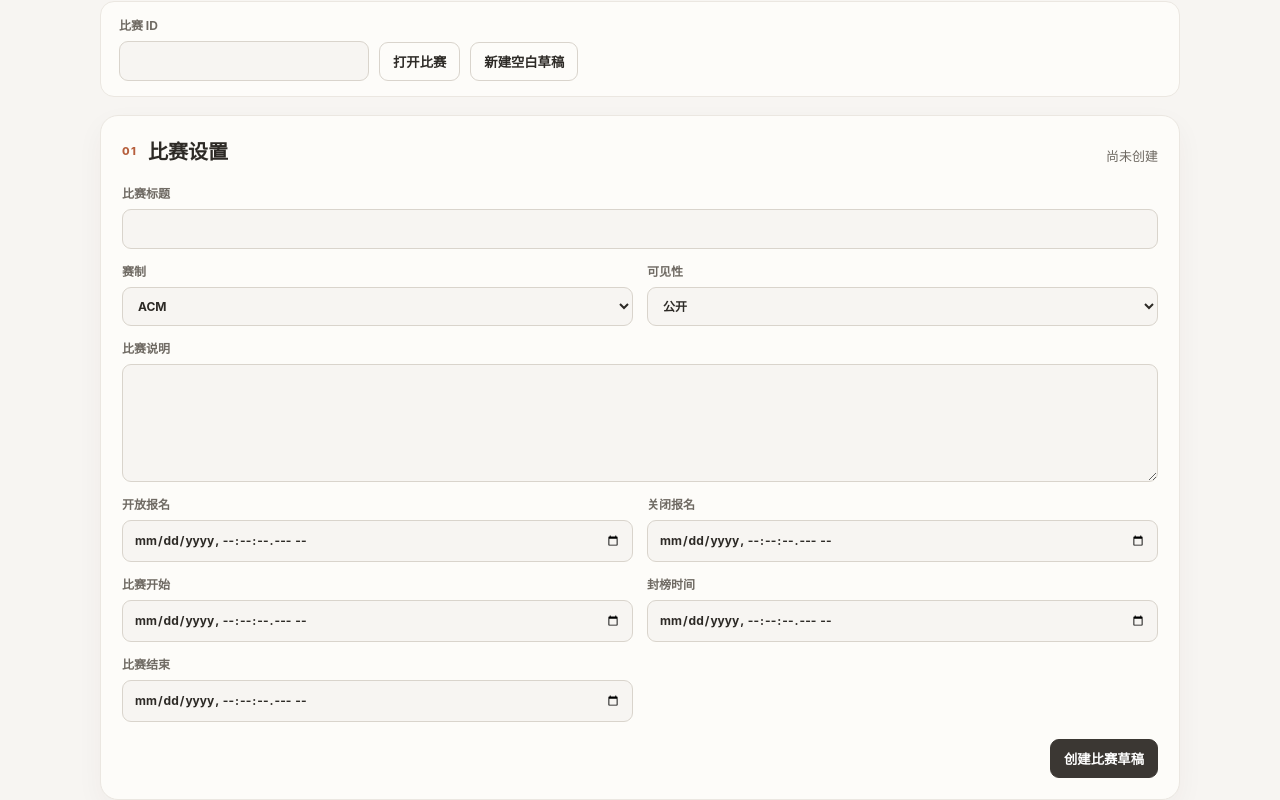
Test: ContestManagement › invalidates discovered versions when the administrator edits the problem id
(page scrolled)
Type "12" into the field labelled "比赛 ID" at (244, 61), box [119,41,369,81]
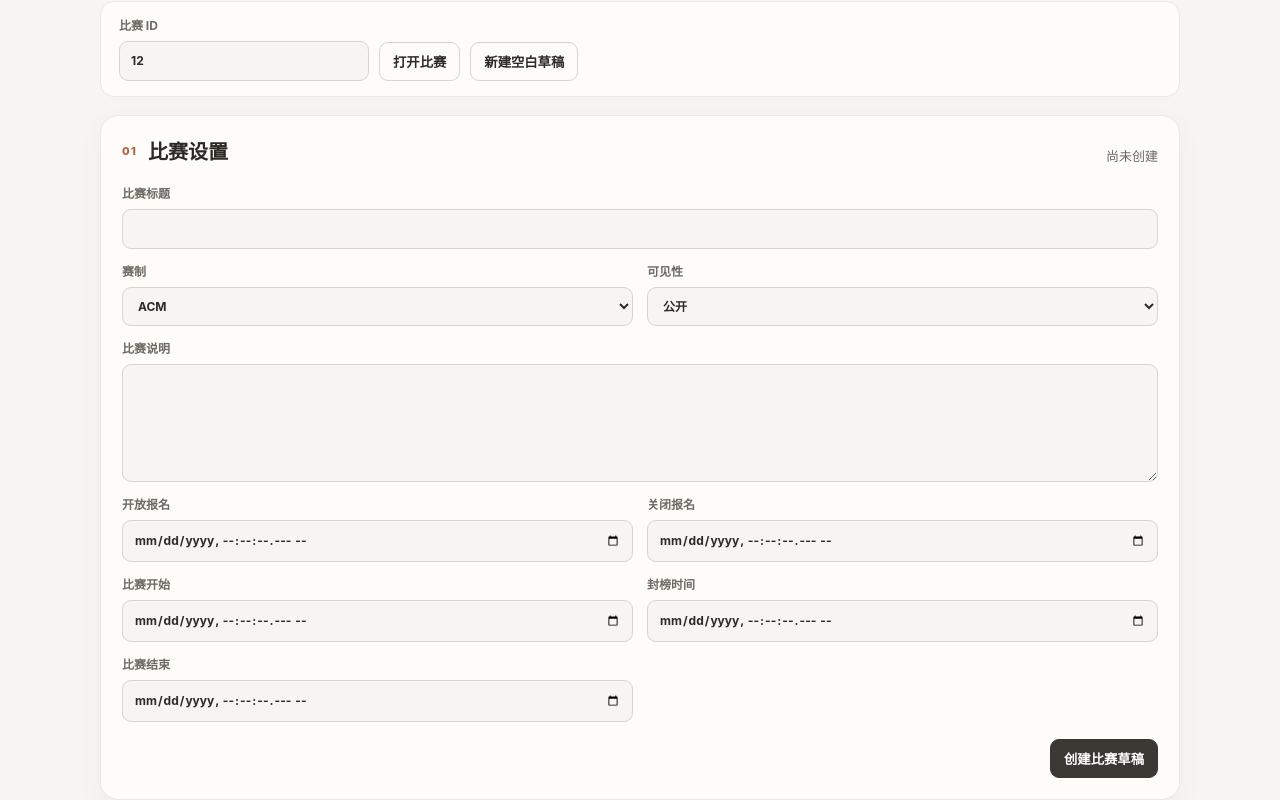
Click the button "打开比赛" at (420, 61), box [379,42,460,81]
(page scrolled)
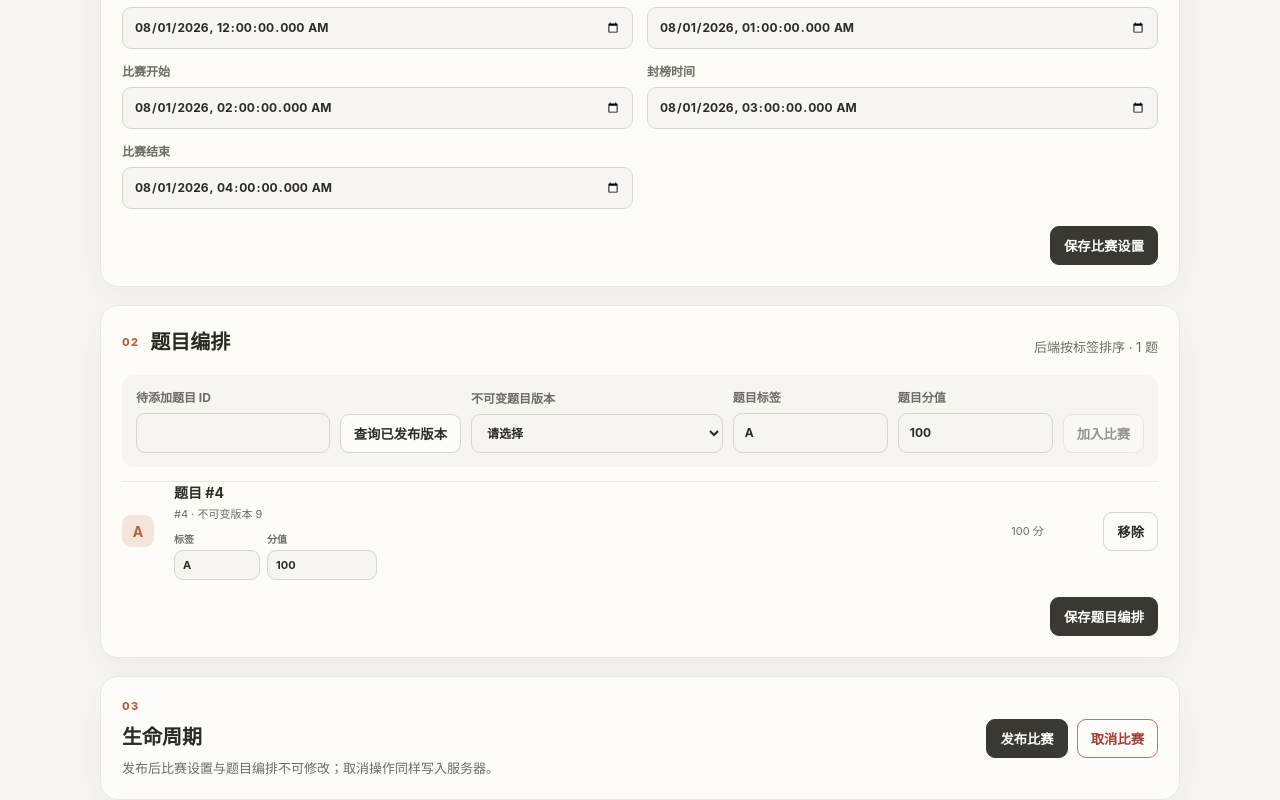
Type "5" into the field labelled "待添加题目 ID" at (233, 433), box [136,413,330,453]
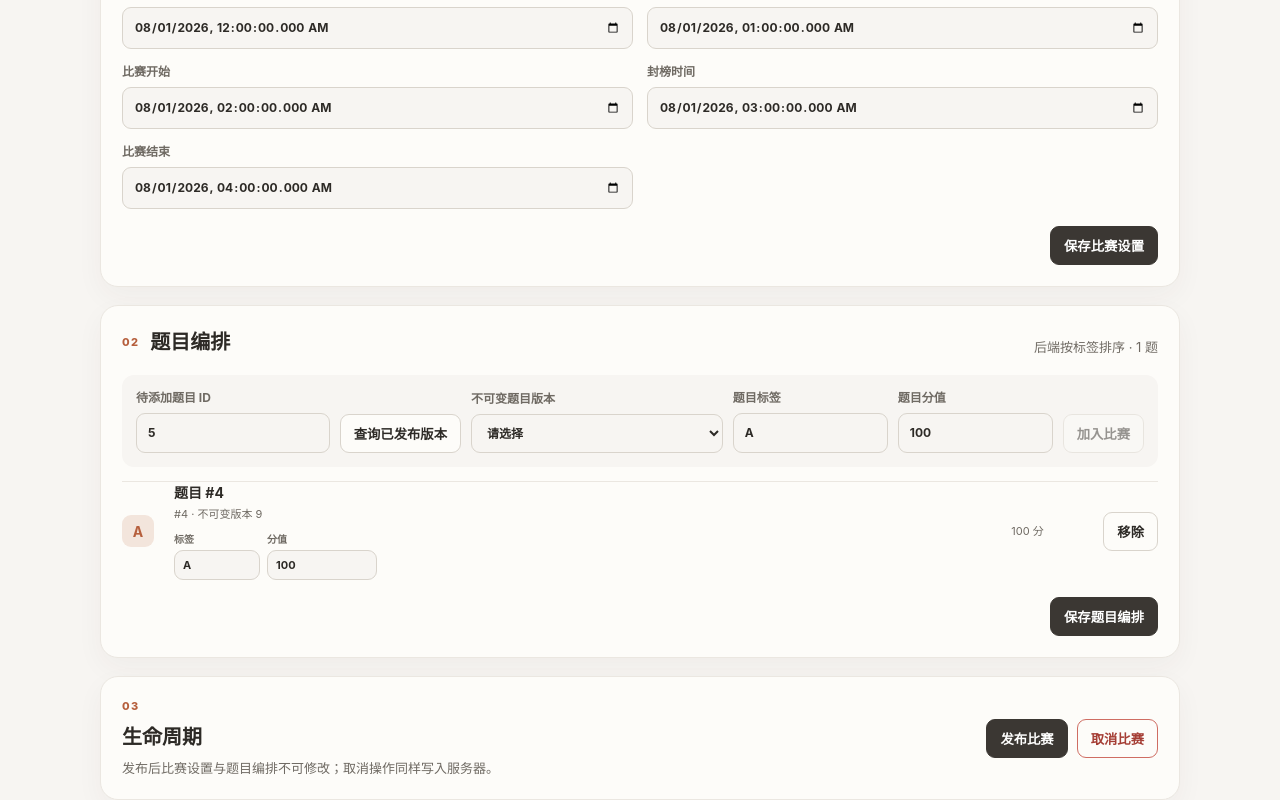
Click the button "查询已发布版本" at (400, 434), box [340,414,461,453]
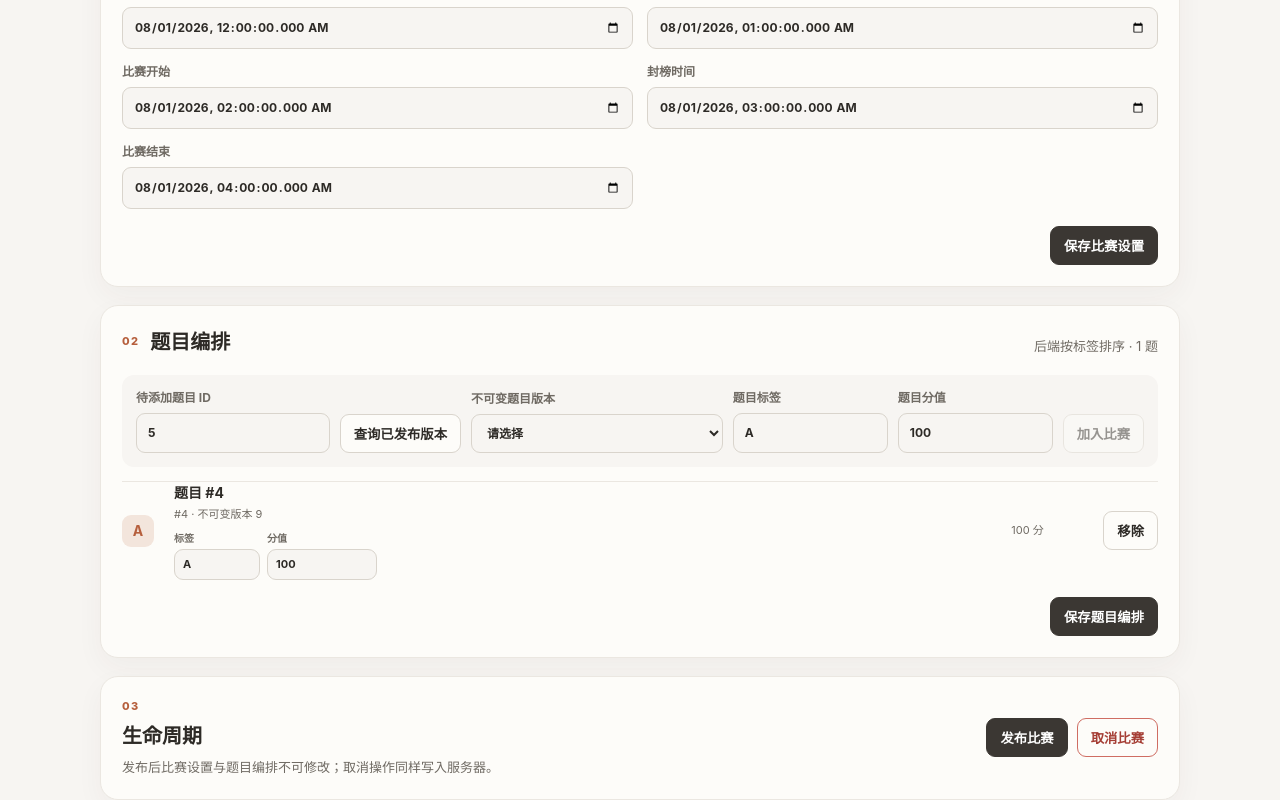
Select "版本 2 · PUBLISHED" in the dropdown labelled "不可变题目版本" at (597, 433), box [471,414,723,453]
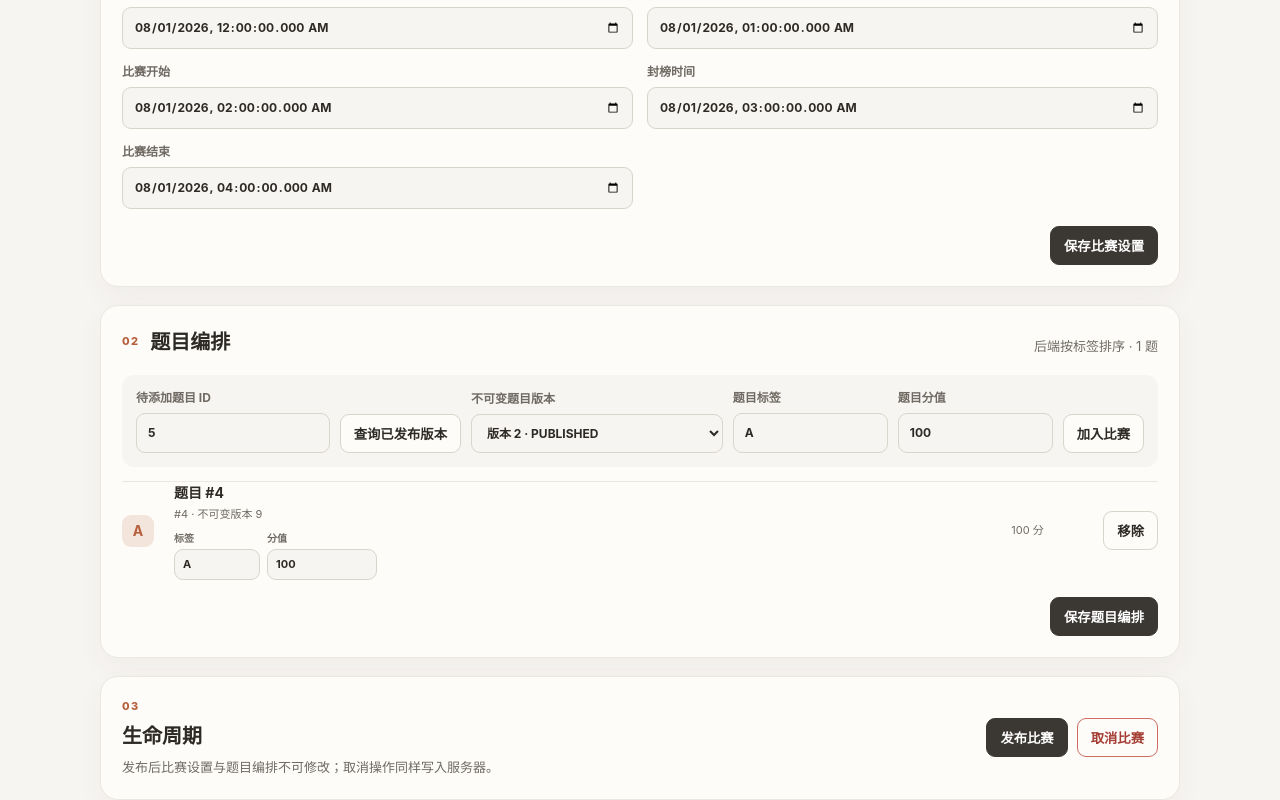
Check: the button "加入比赛" is enabled, box [1063,414,1144,453]
Replace the text in the field labelled "待添加题目 ID" with "6" at (233, 433), box [136,413,330,453]
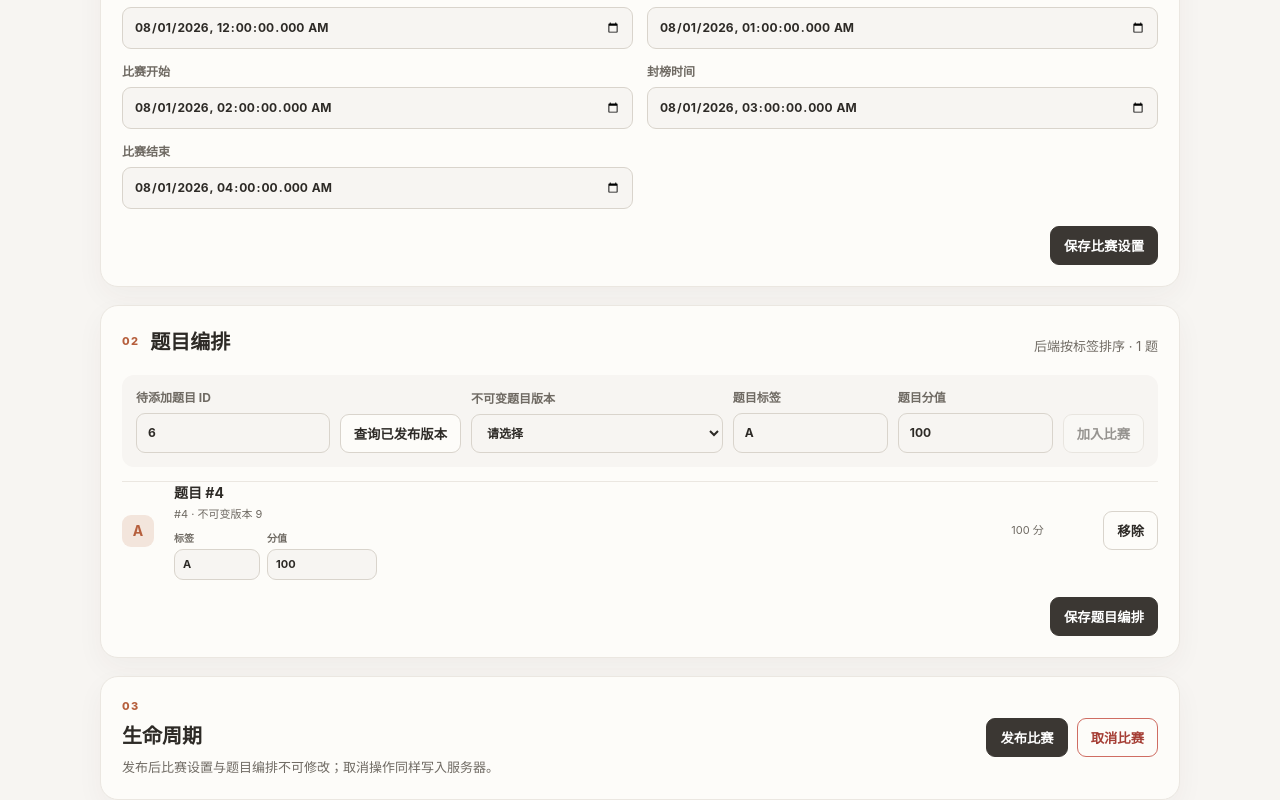
Check: the option "版本 2 · PUBLISHED" is not shown
Check: the button "加入比赛" is disabled, box [1063,414,1144,453]
